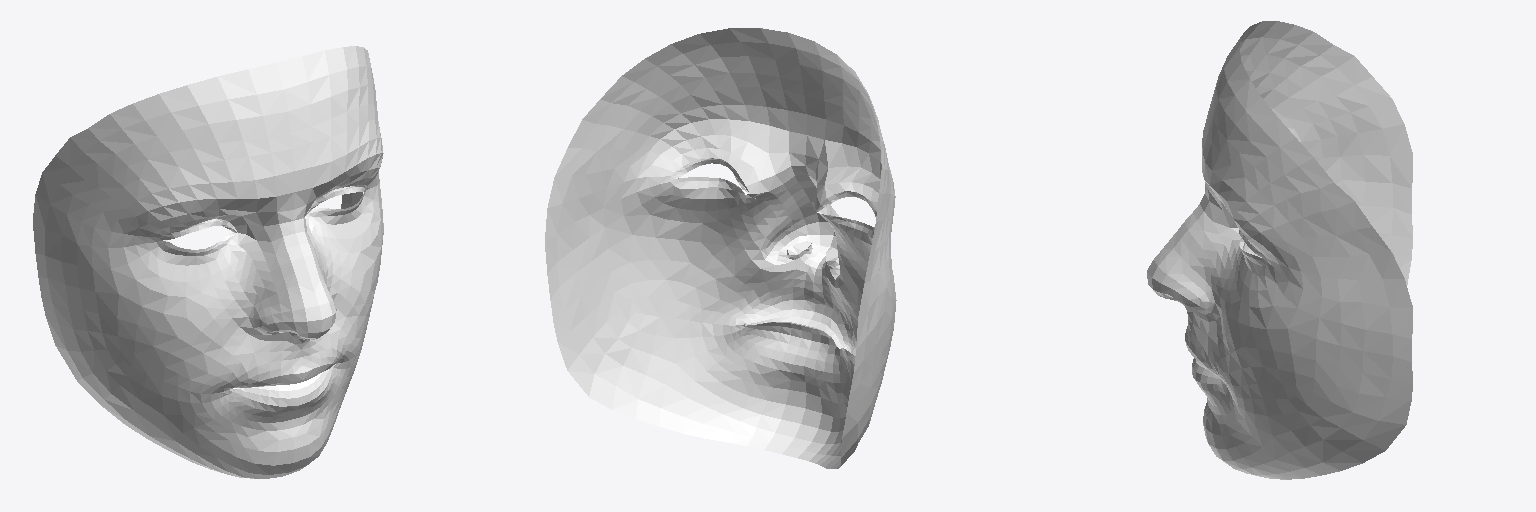
Rendered from eyeSquint_L.obj.
The picture shows the model from 3 angles: view 1: azimuth 30°, elevation 25°; view 2: azimuth 150°, elevation 25°; view 3: azimuth 270°, elevation 25°; orthographic projection.
Parts seen in each view (by area): view 1: default; view 2: default; view 3: default.
Part boxes in pixels (x1,y1,x2,y2): default: (33, 46, 383, 478); default: (545, 28, 896, 468); default: (1147, 21, 1412, 479).
Bounding box in the file's own units: 0.1447 × 0.182 × 0.1055.